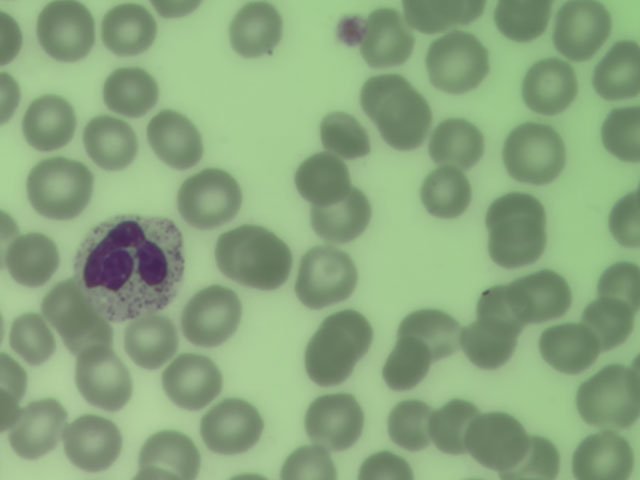Platelets: (335, 14, 368, 48)
RBC: (305, 316, 364, 378), (551, 1, 606, 56), (418, 165, 474, 217), (505, 127, 561, 179), (519, 60, 575, 112), (378, 94, 434, 146), (429, 37, 485, 89), (356, 11, 412, 63), (307, 393, 363, 445), (317, 108, 373, 160), (296, 153, 352, 205), (313, 189, 369, 241), (185, 288, 241, 340), (206, 401, 262, 453), (164, 356, 220, 408), (119, 313, 175, 365), (65, 416, 121, 468), (10, 402, 66, 454), (75, 353, 131, 405), (37, 282, 93, 334), (4, 233, 60, 285), (297, 251, 353, 303), (223, 228, 279, 280), (226, 4, 282, 56), (181, 170, 237, 222), (29, 160, 85, 212), (145, 110, 201, 162), (83, 118, 139, 170), (104, 64, 160, 116), (20, 97, 76, 149), (101, 5, 157, 57), (37, 1, 93, 53), (576, 297, 632, 349), (540, 322, 596, 374), (584, 366, 640, 418), (470, 414, 526, 466), (426, 400, 482, 452), (382, 396, 438, 448), (379, 341, 435, 393), (402, 302, 458, 354), (486, 193, 542, 245), (428, 113, 484, 165), (460, 318, 516, 370), (477, 283, 533, 335), (515, 268, 571, 320), (592, 38, 640, 98), (140, 428, 196, 479), (572, 428, 628, 479), (7, 318, 53, 367), (61, 315, 112, 359), (494, 1, 549, 41), (279, 439, 334, 479), (510, 439, 565, 479), (600, 107, 640, 162), (600, 262, 640, 316), (605, 187, 640, 248), (489, 232, 546, 267), (349, 449, 415, 479), (1, 353, 29, 407), (362, 75, 409, 107), (1, 68, 23, 132), (413, 1, 472, 24), (1, 12, 26, 59)
WBC: (79, 213, 182, 310)
